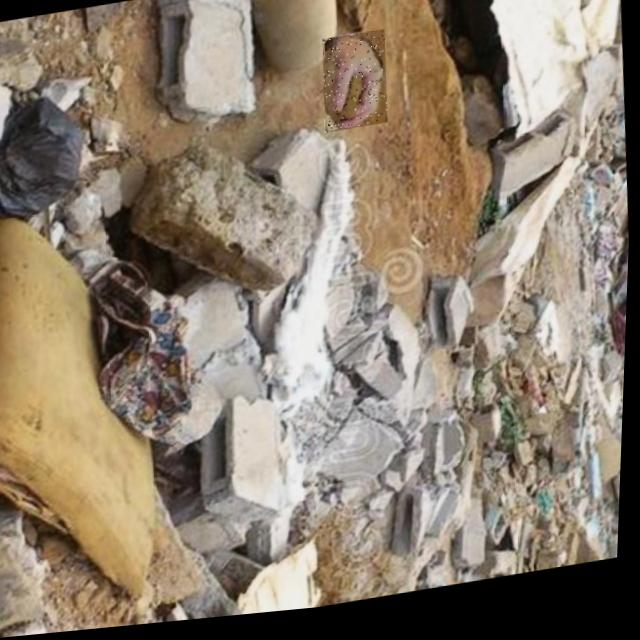Person in Rubble: (319, 36, 390, 139)
